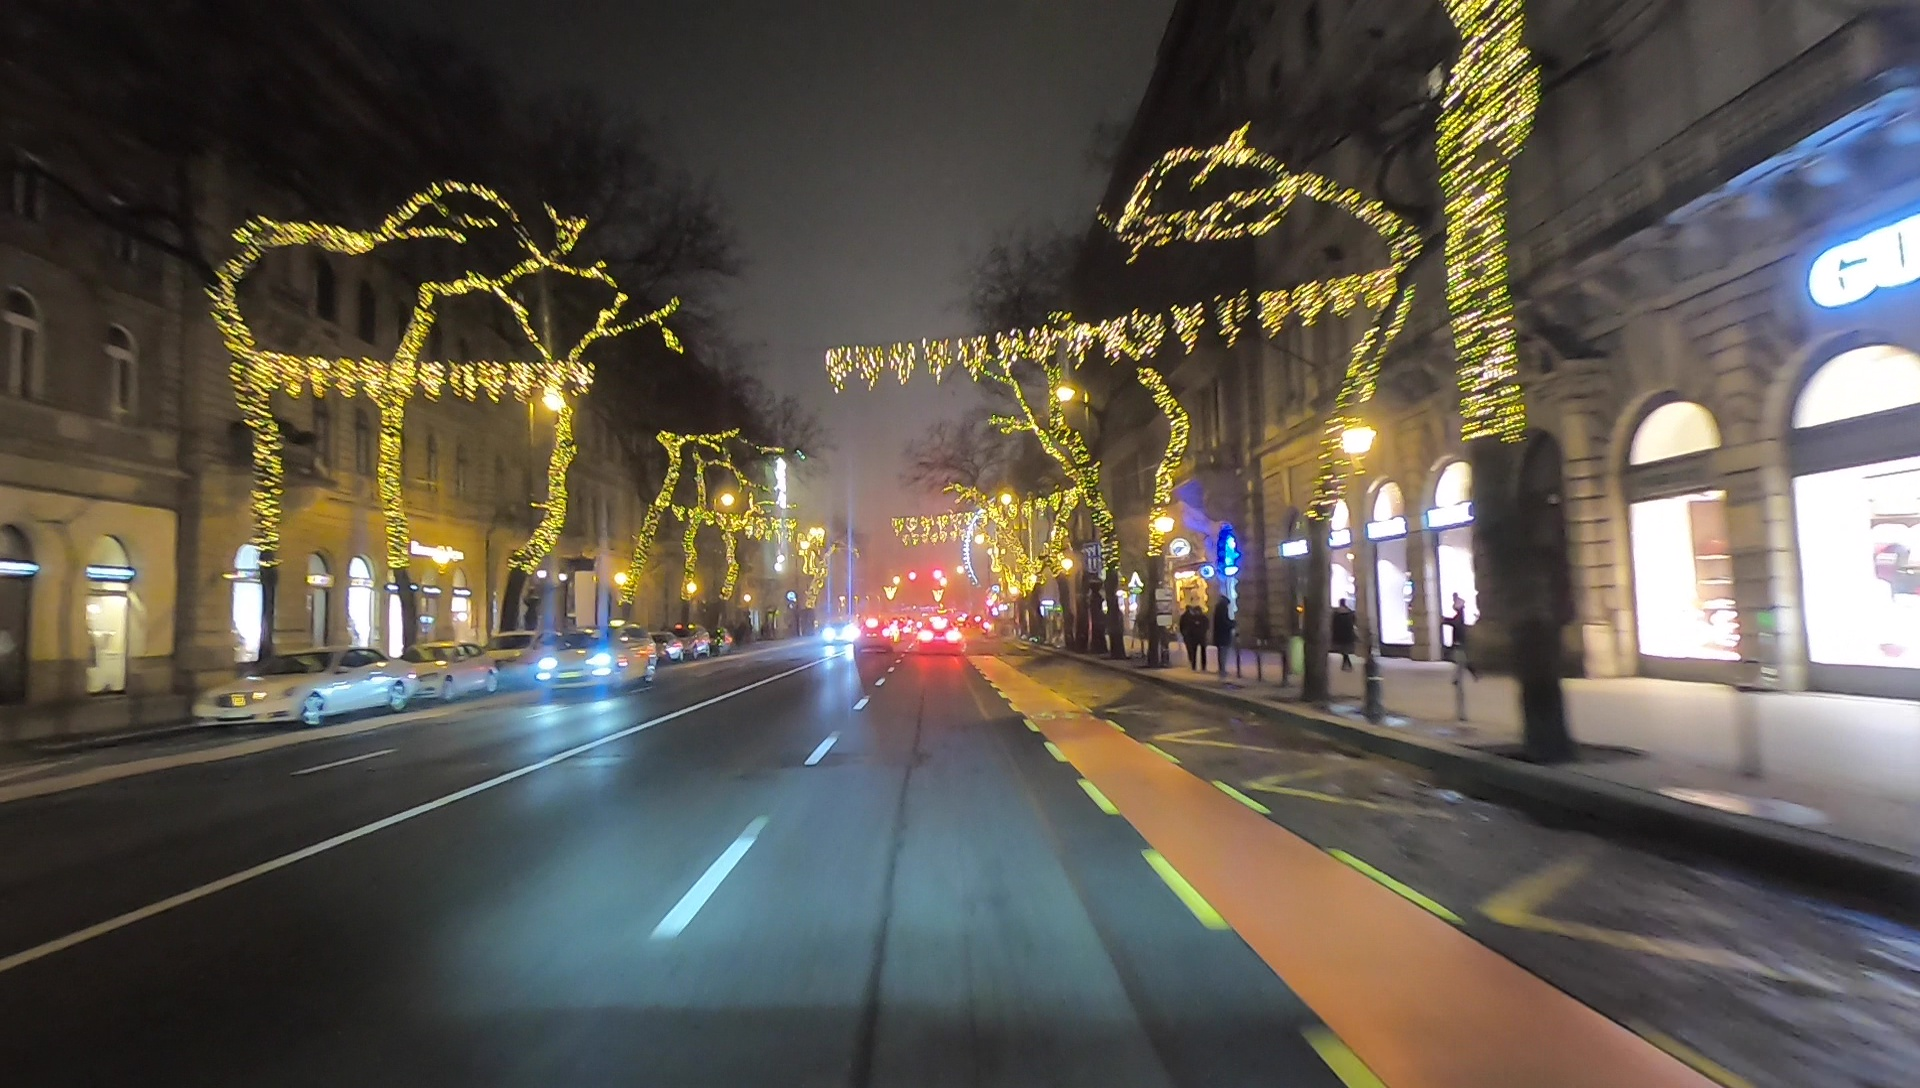person: (1442, 596, 1480, 684), (1332, 597, 1358, 673), (1184, 603, 1210, 675), (1214, 597, 1235, 675)
